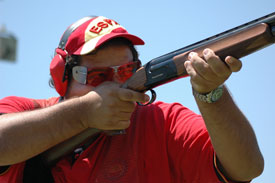weapon: (101, 12, 275, 128)
